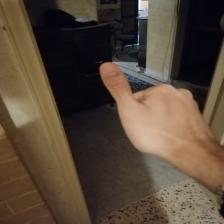five: (96, 60, 217, 162)
